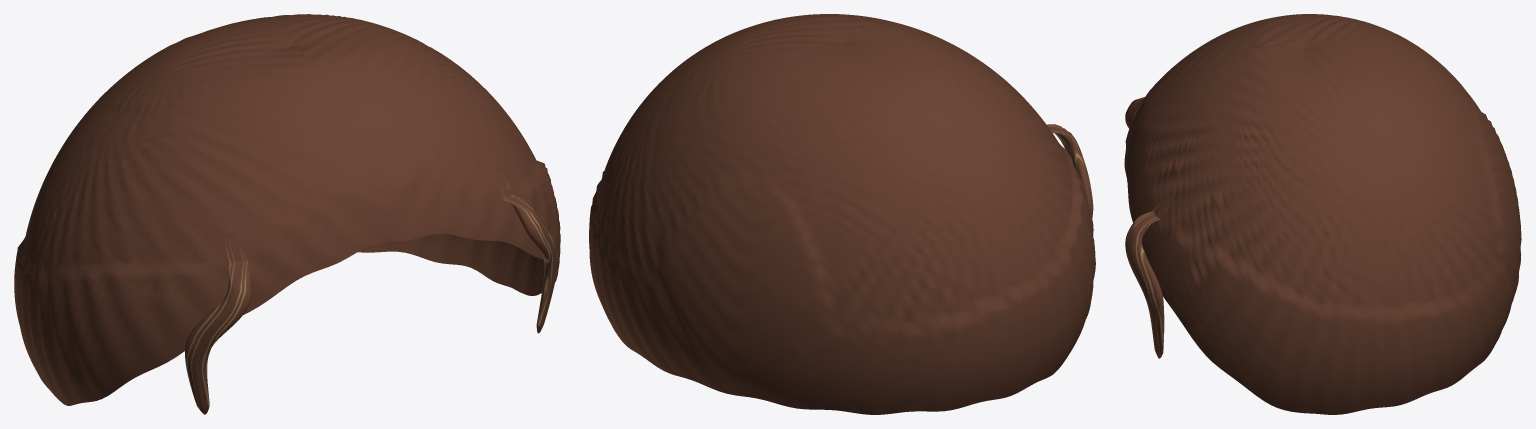
The model's file is Highlights-13d7c995fe0c252-hair.glb.
The picture shows the model from 3 angles, left to right: view 1: azimuth 30°, elevation 25°; view 2: azimuth 150°, elevation 25°; view 3: azimuth 270°, elevation 25°; orthographic projection. The views are drawn at different scales.
Parts seen in each view (by area): view 1: 226 hair / Hair / chestnut226.002; view 2: 226 hair / Hair / chestnut226.002; view 3: 226 hair / Hair / chestnut226.002.
Boxes of the visible parts, x1,y1,x2,y2 form: 226 hair / Hair / chestnut226.002: (14,14,560,414); 226 hair / Hair / chestnut226.002: (589,14,1095,414); 226 hair / Hair / chestnut226.002: (1124,14,1521,414).
Size of the model in its own units: 0.9988 by 0.599 by 0.7845.
Materials: 1 (1 with a texture image).
